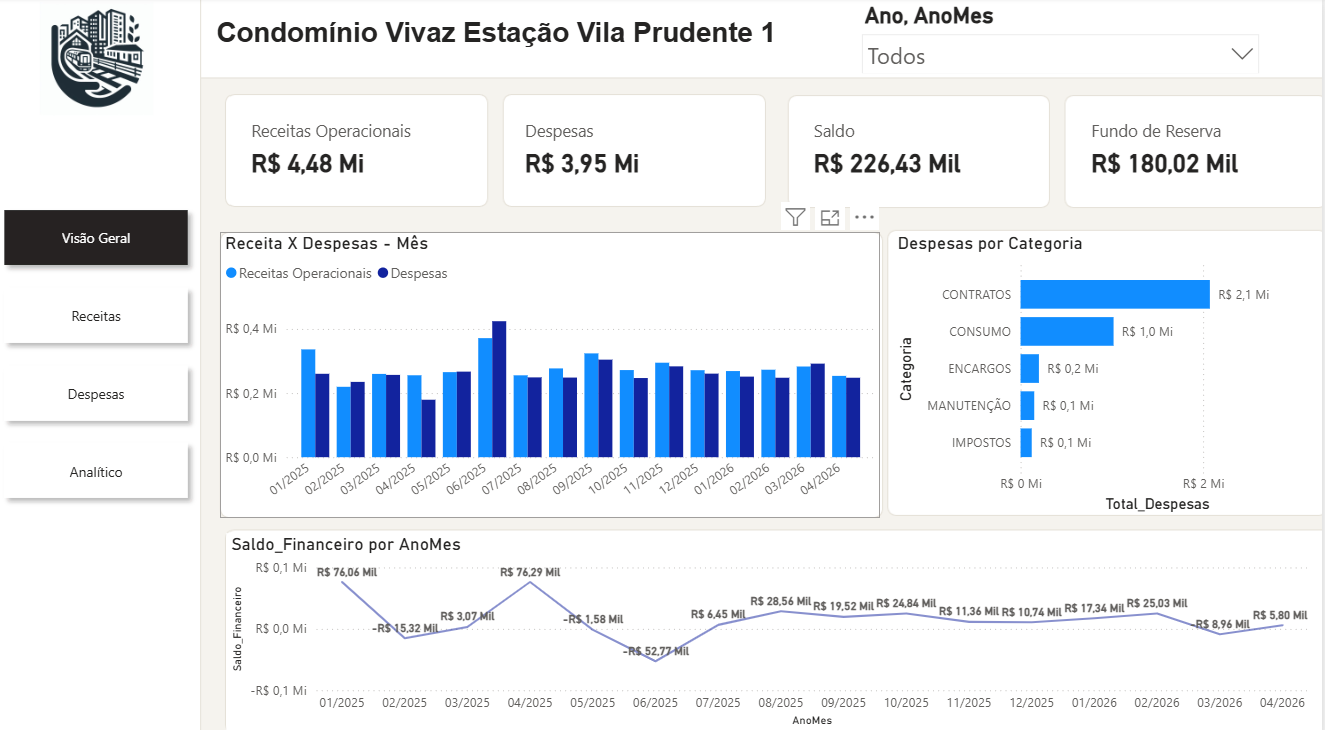

This screenshot's page, from the dashboard's own definition file:
{"tool":"powerbi","page":{"name":"Visão Geral","canvas":[1280,720],"ordinal":0},"visuals":[{"type":"cardVisual","fields":{"Data":["dMedidas.Total_Receitas_Operacionais"]},"box":[230.8,96.7,238.1,99.6],"z":0},{"type":"cardVisual","fields":{"Data":["dMedidas.Total_Despesas"]},"box":[494.9,96.7,238.1,99.6],"z":1000},{"type":"cardVisual","fields":{"Data":["dMedidas.Saldo_Financeiro"]},"box":[773.3,96.7,238.1,99.6],"z":2000},{"type":"cardVisual","fields":{"Data":["dMedidas.Fundo_reserva"]},"box":[1041.7,96.7,238.1,99.6],"z":3000},{"type":"image","box":[0,0,195.4,119.4],"z":4000},{"type":"textbox","box":[209.2,14.4,580,46.2],"z":5000},{"type":"clusteredColumnChart","title":"Receita X Despesas - Mês","fields":{"Category":["dCalendario.AnoMes"],"Y":["dMedidas.Total_Receitas_Operacionais","dMedidas.Despesas"]},"box":[217.2,226.8,637,276.3],"z":6000},{"type":"barChart","title":"Despesas por Categoria","fields":{"Category":["dCod_Categ.Categoria"],"Y":["dMedidas.Total_Despesas"]},"box":[865.7,226.5,414.1,275.6],"z":7000},{"type":"slicer","fields":{"Values":["dCalendario.Ano","dCalendario.AnoMes"]},"box":[826.7,0,404,73.6],"z":8000},{"type":"lineChart","fields":{"Category":["dCalendario.AnoMes"],"Y":["dMedidas.Saldo_Financeiro"]},"box":[223.4,517.8,1049.9,191.5],"z":9000},{"type":"pageNavigator","box":[0,196.3,195.1,297.4],"z":10000}]}

Visuals, with their boxes on the page's 1280x720 design canvas (x1, y1, x2, y2). These are canvas units, not pixel positions in the 1325x730 screenshot, which may show the page scaled, cropped or inside an application window:
cardVisual - dMedidas.Total_Receitas_Operacionais: (x1=231, y1=97, x2=469, y2=196)
cardVisual - dMedidas.Total_Despesas: (x1=495, y1=97, x2=733, y2=196)
cardVisual - dMedidas.Saldo_Financeiro: (x1=773, y1=97, x2=1011, y2=196)
cardVisual - dMedidas.Fundo_reserva: (x1=1042, y1=97, x2=1280, y2=196)
image: (x1=0, y1=0, x2=195, y2=119)
textbox: (x1=209, y1=14, x2=789, y2=61)
"Receita X Despesas - Mês" clusteredColumnChart: (x1=217, y1=227, x2=854, y2=503)
"Despesas por Categoria" barChart: (x1=866, y1=226, x2=1280, y2=502)
slicer - dCalendario.Ano x dCalendario.AnoMes: (x1=827, y1=0, x2=1231, y2=74)
lineChart - dCalendario.AnoMes x dMedidas.Saldo_Financeiro: (x1=223, y1=518, x2=1273, y2=709)
pageNavigator: (x1=0, y1=196, x2=195, y2=494)
